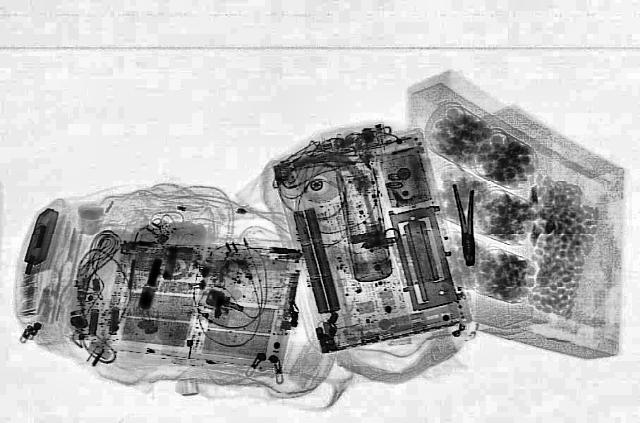Pliers: (450, 182, 482, 266)
